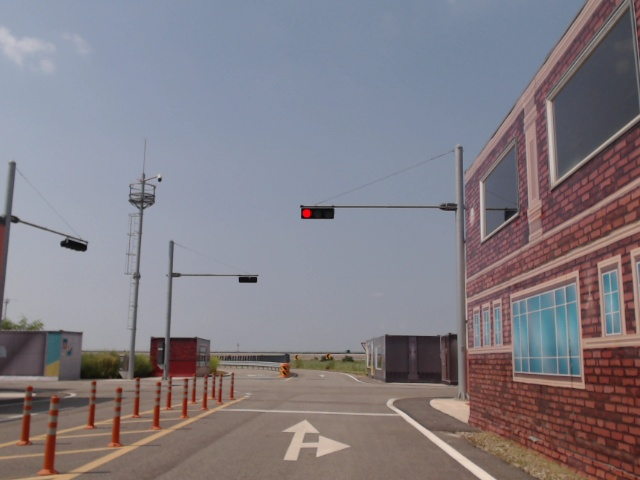red_3: (299, 206, 335, 219)
